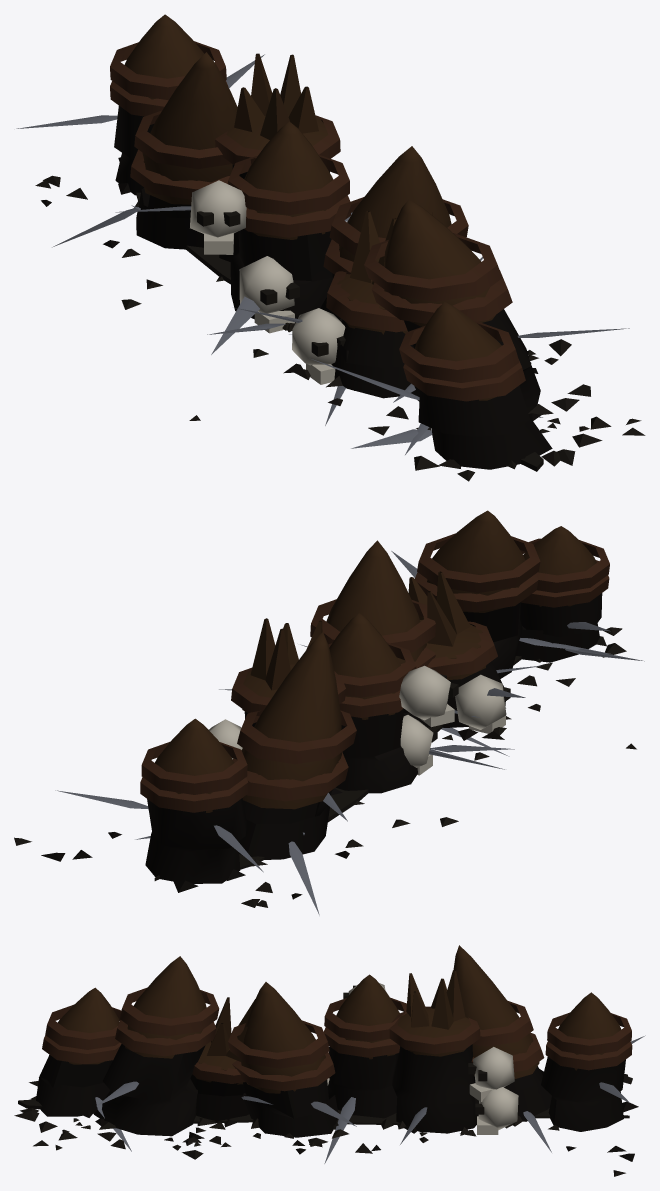
Rendered from TarPRWall01a.glb.
3 renders of one model, top to bottom at view 1: azimuth 30°, elevation 25°; view 2: azimuth 150°, elevation 25°; view 3: azimuth 270°, elevation 25°, orthographic. The views are drawn at different scales.
Parts seen in each view (by area): view 1: pal_body; view 2: pal_body; view 3: pal_body.
Part boxes in pixels (left/top/right/bottom): pal_body: left=16, top=14, right=645, bottom=481; pal_body: left=14, top=510, right=644, bottom=915; pal_body: left=14, top=945, right=645, bottom=1176.
Bounding box in the file's own units: 4.37 × 2.48 × 7.93.
